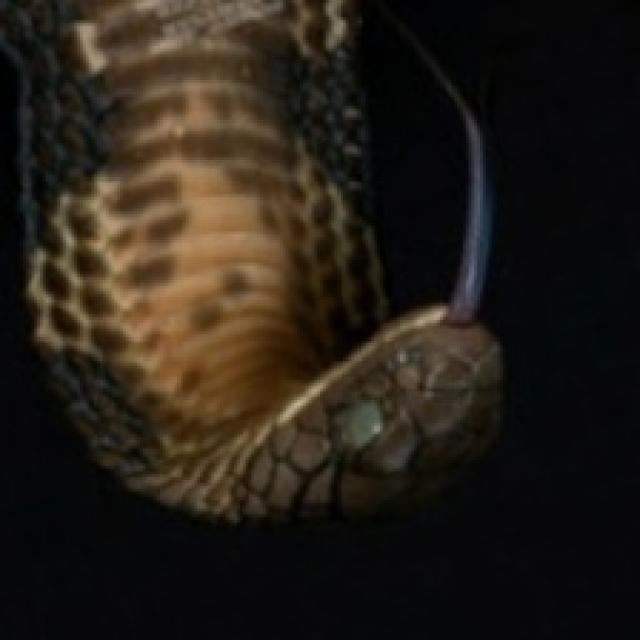king cobra: (0, 0, 500, 520)
